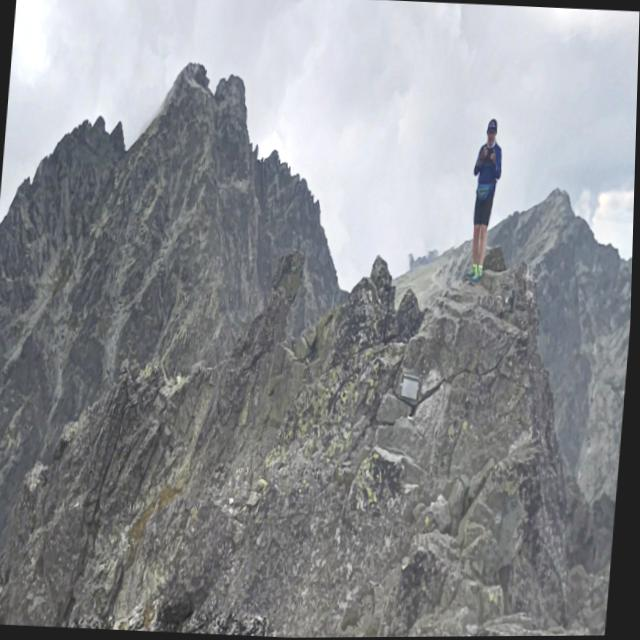Rysy: (495, 124, 624, 262)
Vysoka: (87, 0, 310, 177)
